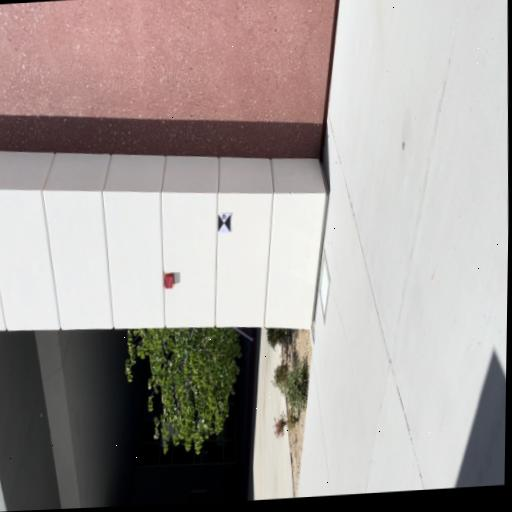target9: (218, 213, 231, 233)
